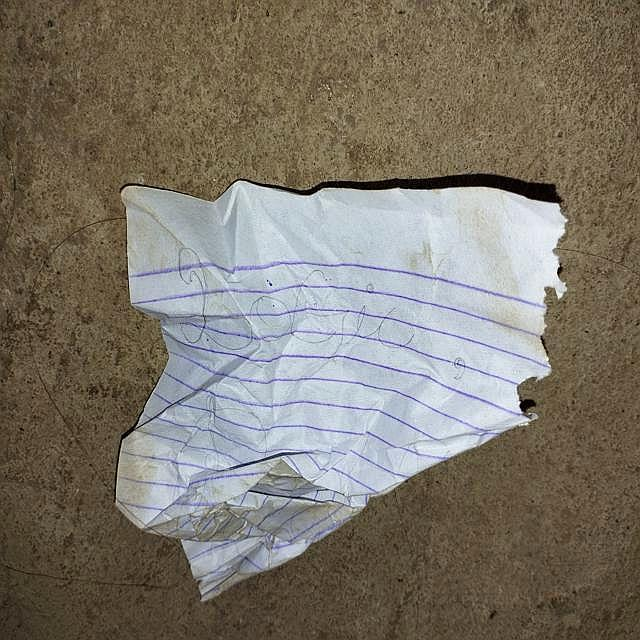Biodegradable: (113, 187, 561, 595)
